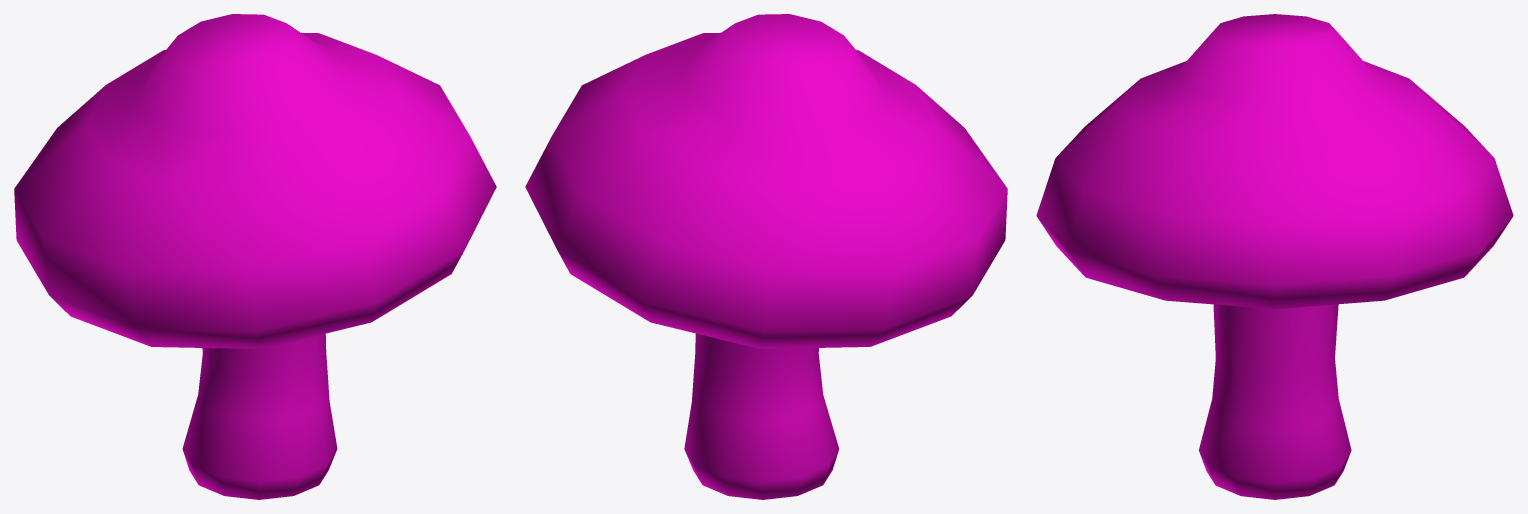
Rendered from mushroom01REV_v1-1.12.2021.fbx.
3 renders of one model, left to right at view 1: azimuth 30°, elevation 25°; view 2: azimuth 150°, elevation 25°; view 3: azimuth 270°, elevation 25°, orthographic.
Parts seen in each view (by area): view 1: CoL_mushroom01; view 2: CoL_mushroom01; view 3: CoL_mushroom01.
Boxes of the visible parts, box(x1,y1,x2,y2) form: CoL_mushroom01: box(14, 14, 496, 499); CoL_mushroom01: box(525, 14, 1007, 499); CoL_mushroom01: box(1036, 14, 1513, 499).
Size of the model in its own units: 20.59 by 20.64 by 20.56.
